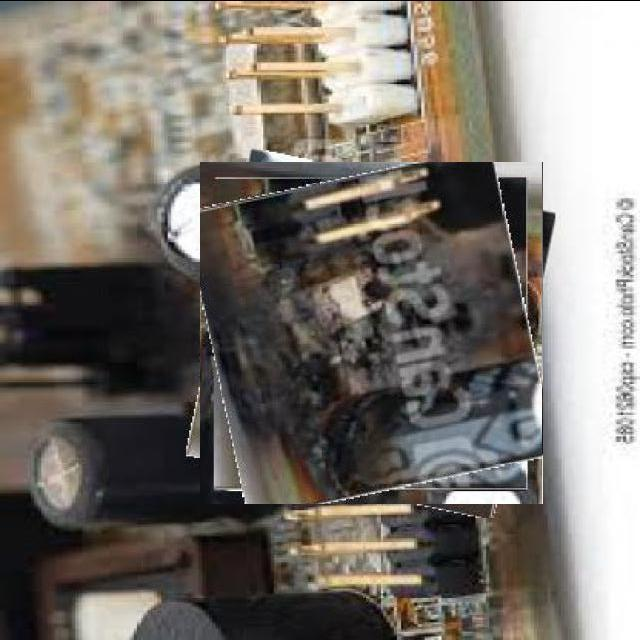damged: (200, 162, 543, 504)
